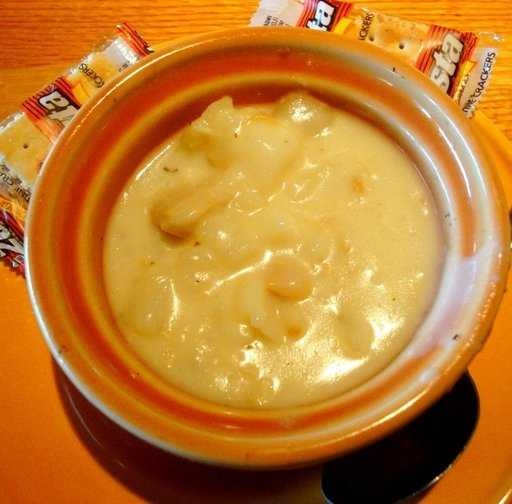soup: (50, 62, 455, 409)
